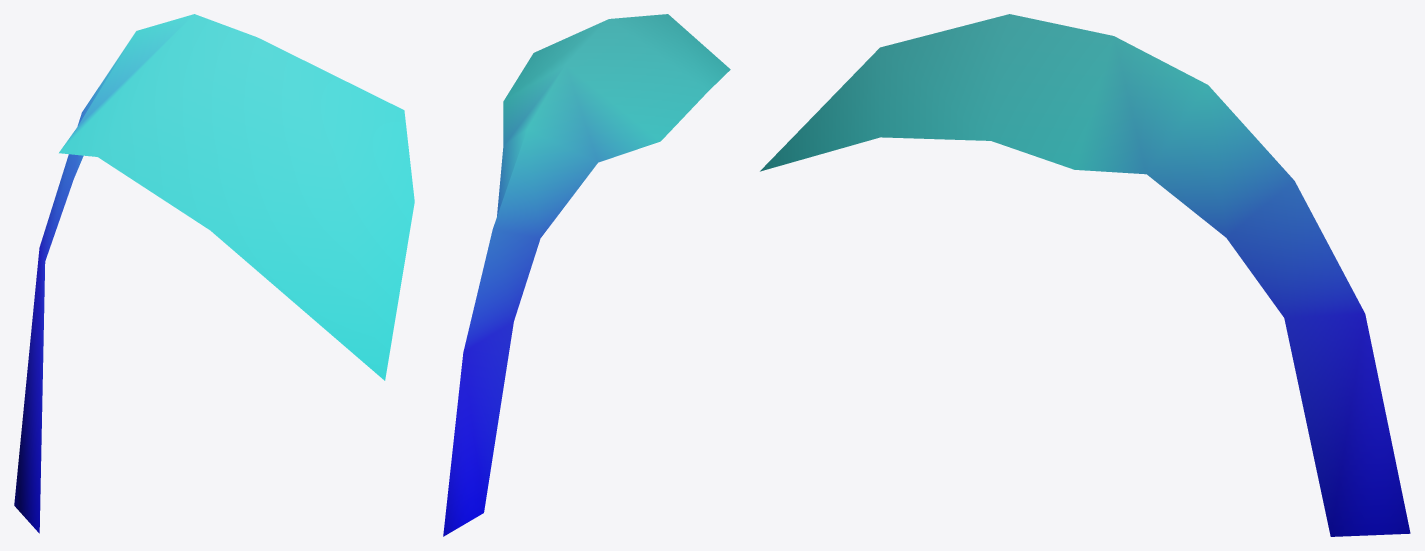
Rendered from SM_Env_Fern_Part_04.gltf.
3 renders of one model, left to right at view 1: azimuth 30°, elevation 25°; view 2: azimuth 150°, elevation 25°; view 3: azimuth 270°, elevation 25°, orthographic. The views are drawn at different scales.
Parts seen in each view (by area): view 1: SM_Env_Fern_Part_04_LOD0; view 2: SM_Env_Fern_Part_04_LOD0; view 3: SM_Env_Fern_Part_04_LOD0.
Boxes of the visible parts, x1,y1,x2,y2 form: SM_Env_Fern_Part_04_LOD0: (14, 14, 414, 533); SM_Env_Fern_Part_04_LOD0: (443, 14, 730, 536); SM_Env_Fern_Part_04_LOD0: (760, 14, 1410, 536).
Bounding box in the file's own units: 0.521 × 1.11 × 1.27.
